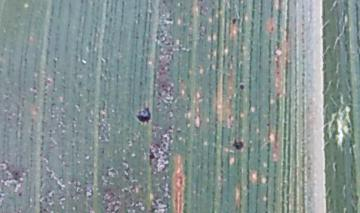tarspot: (135, 105, 152, 124), (231, 137, 244, 151), (147, 146, 155, 165), (231, 16, 237, 26), (164, 16, 172, 23), (16, 191, 24, 198), (138, 78, 144, 87), (238, 83, 244, 90), (265, 121, 271, 128), (13, 171, 18, 177), (161, 1, 167, 4)
